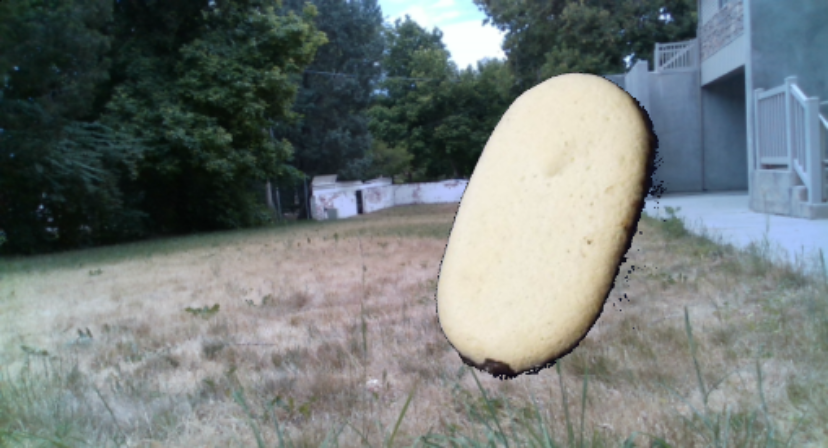test: (360, 43, 737, 410)
